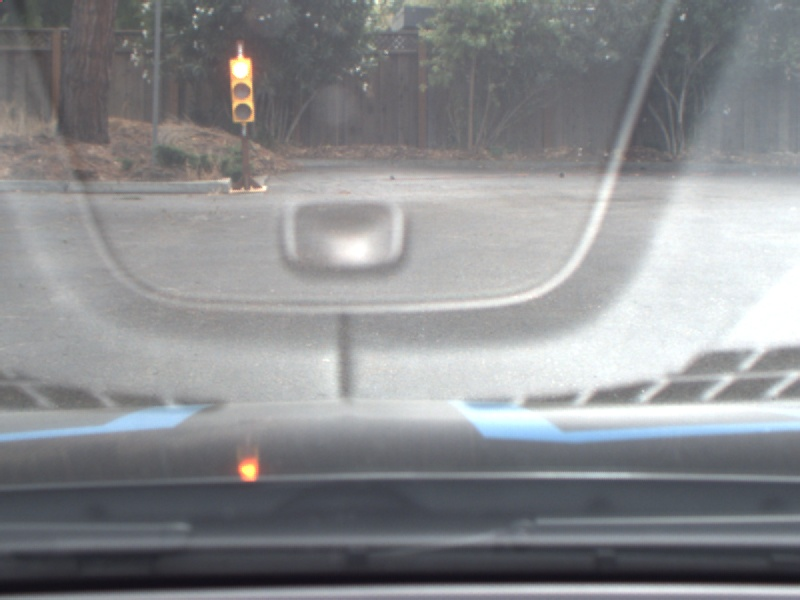red: (226, 54, 260, 125)
